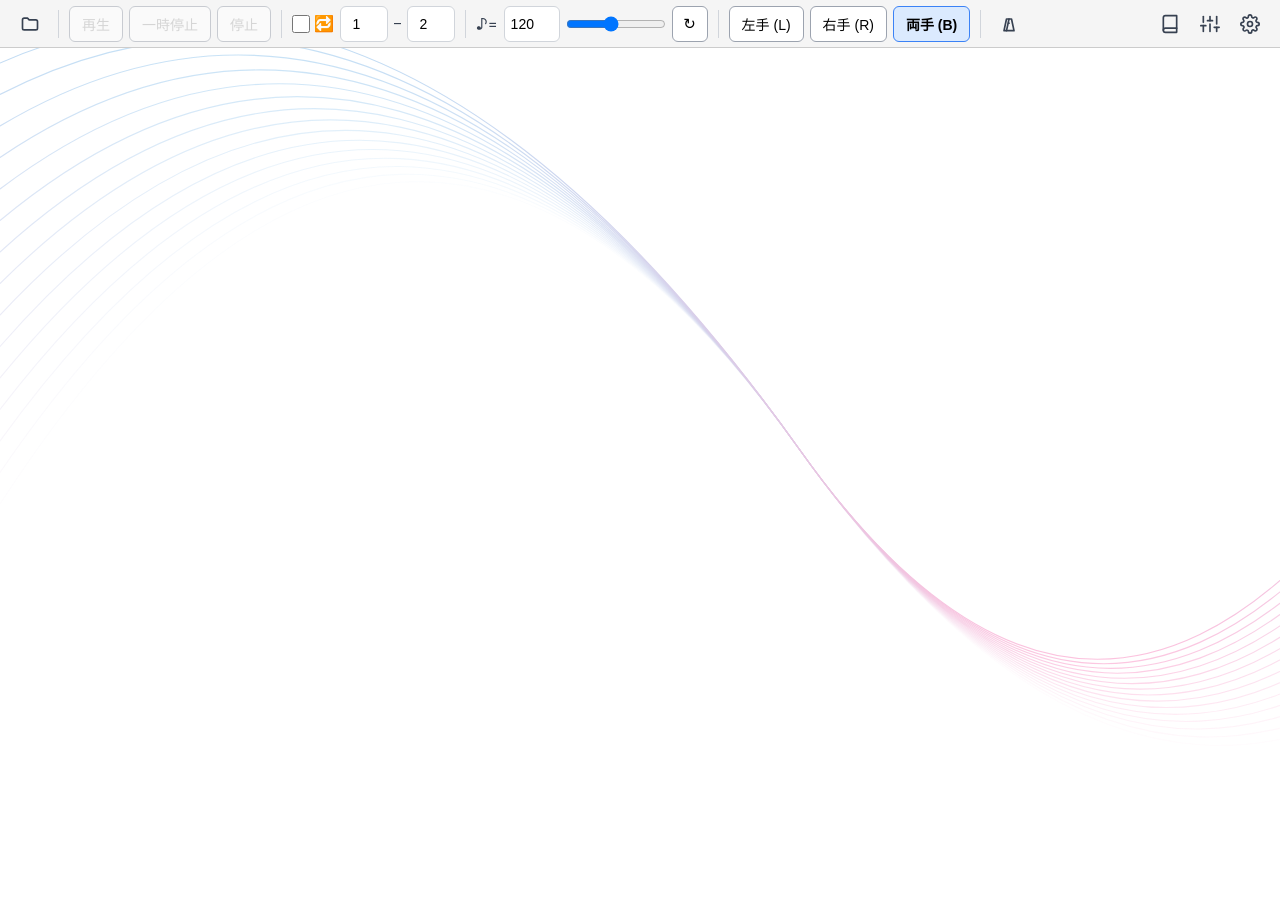
Test: Header › ループ (LoopControl integration) › shows an error when loop start >= end
Replace the text in the number field with test id "loop-start" with "5" at [364, 24], box [340,6,388,42]
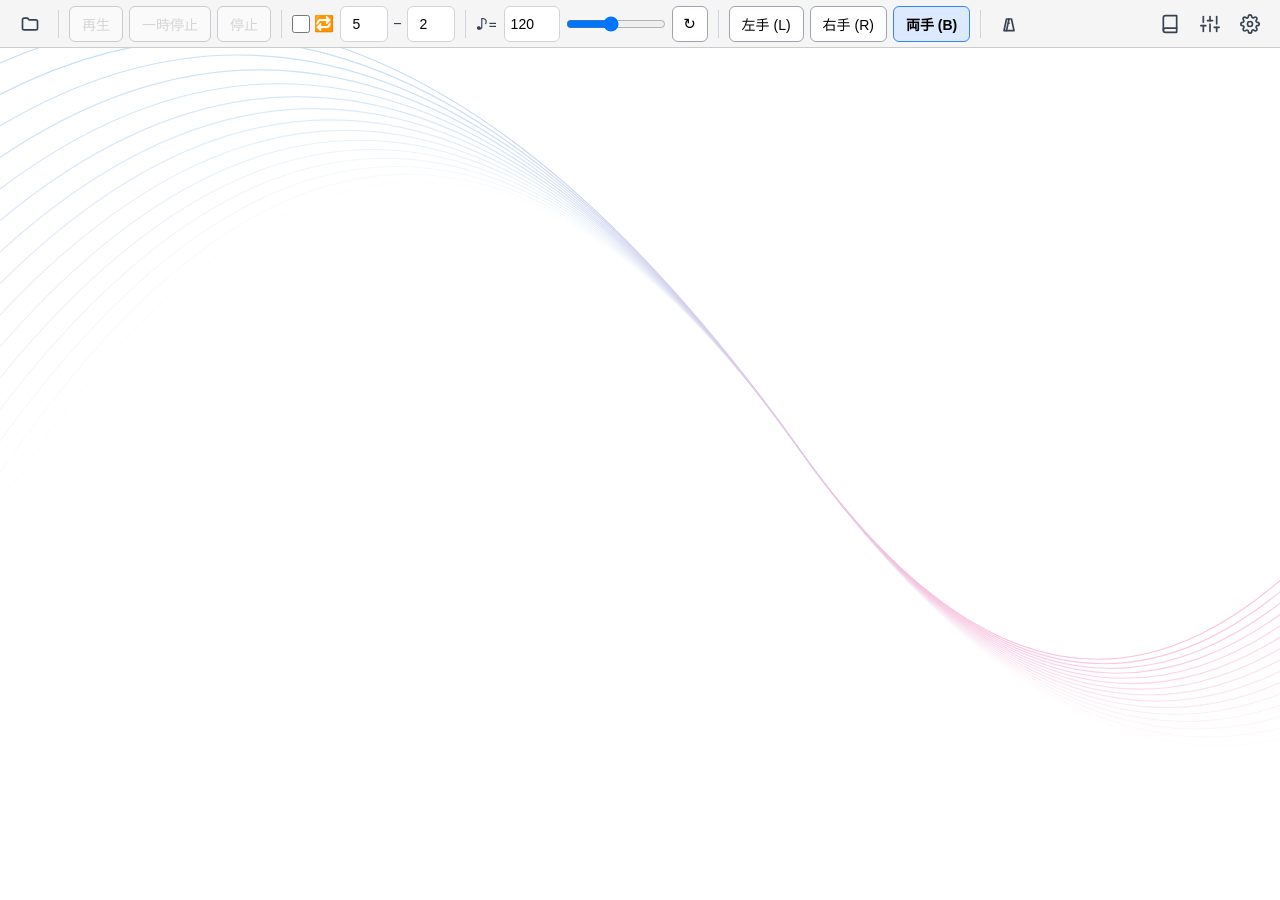
Replace the text in the number field with test id "loop-end" with "3" at [431, 24], box [407,6,455,42]
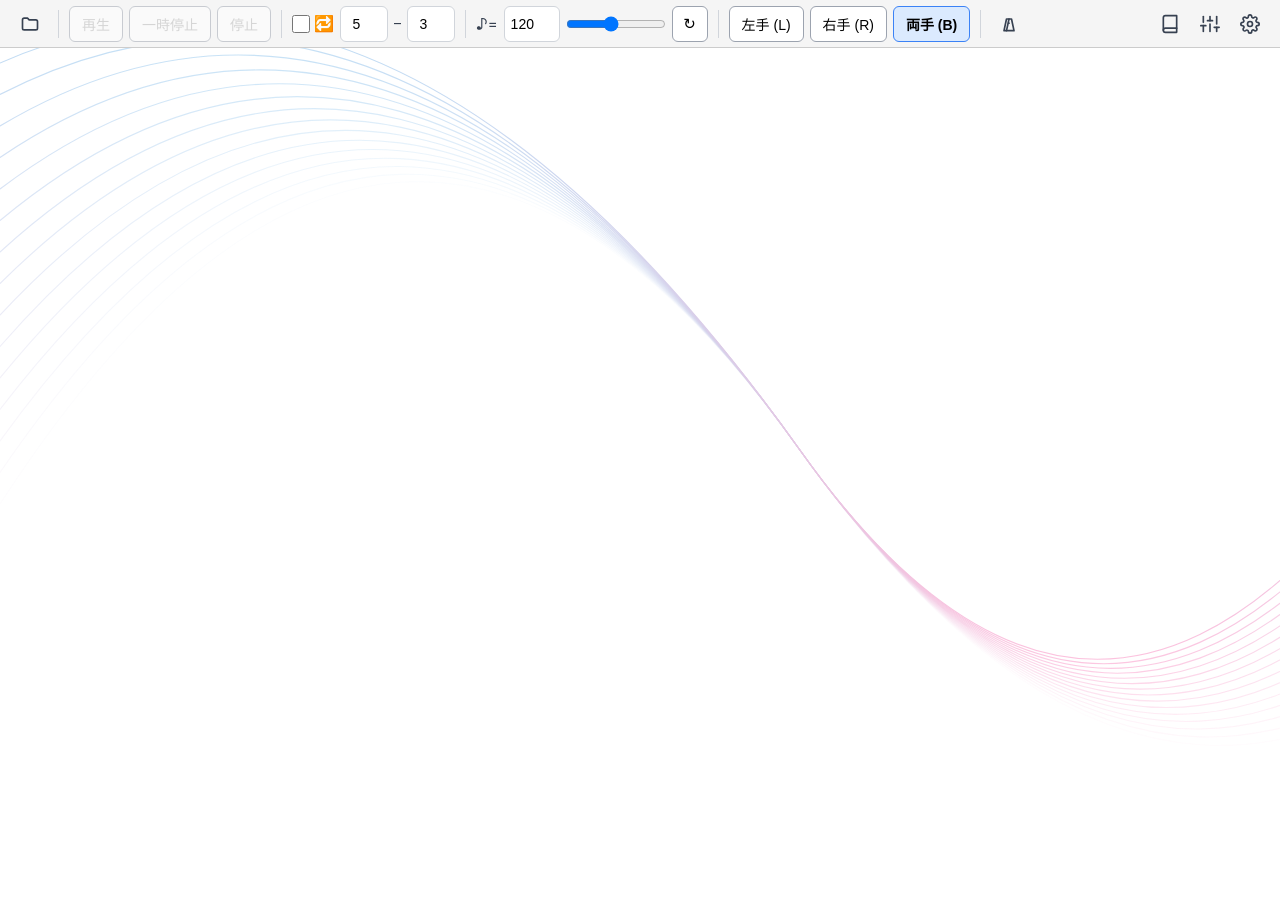
Leave the number field with test id "loop-end", box [407,6,455,42]
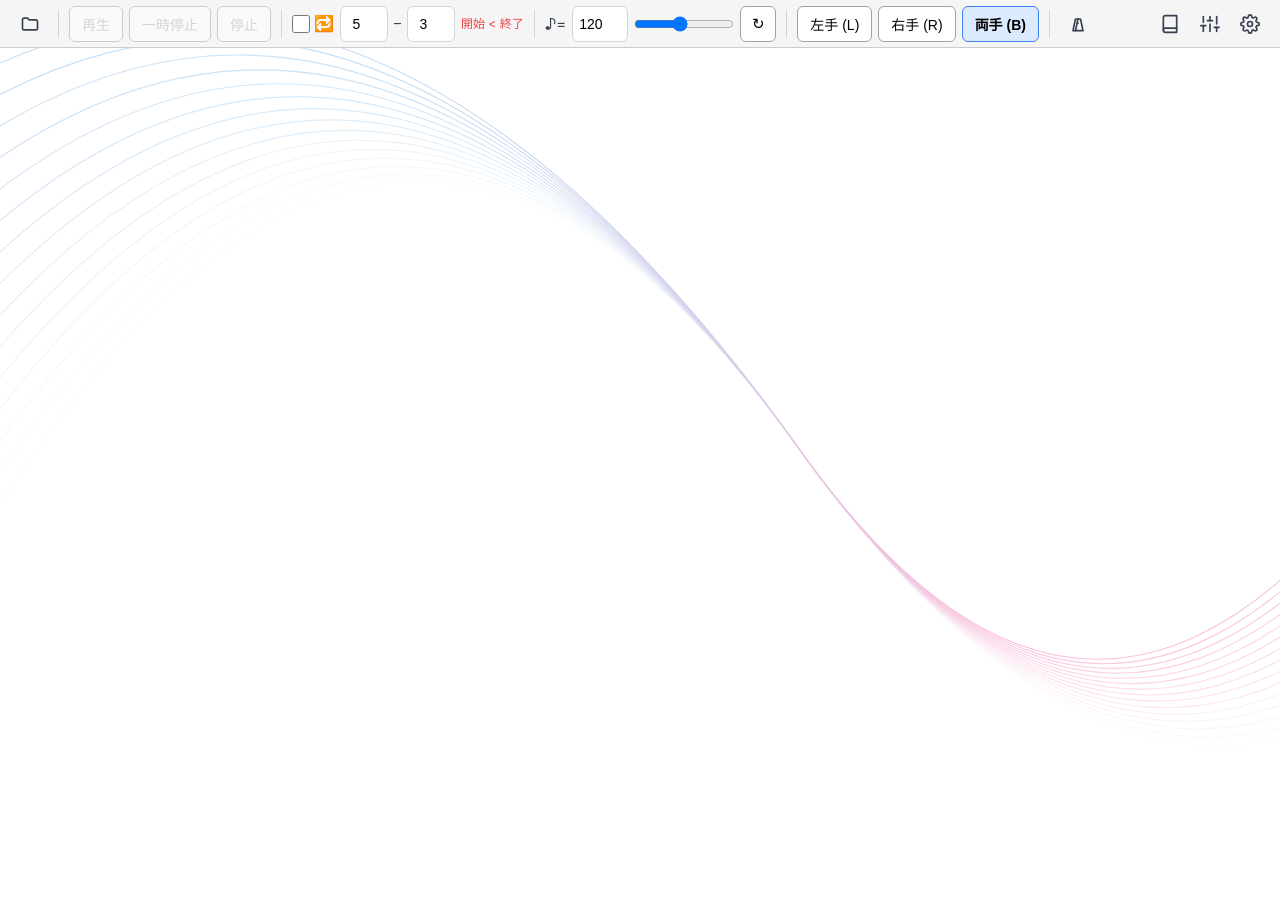
Expected: the text "開始 < 終了" is shown, [461,14,524,33]
